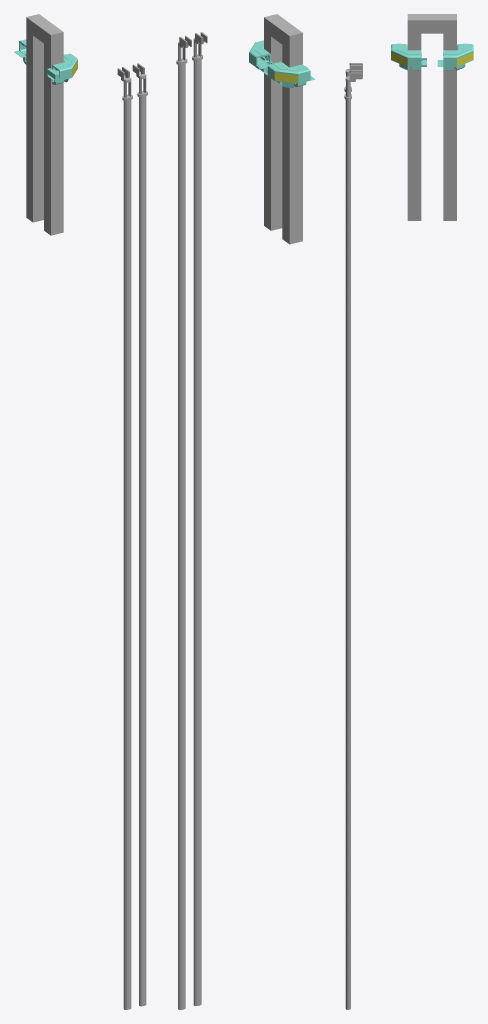
The model's file is Lab.fbx.
The picture shows the model from 3 angles, left to right: view 1: azimuth 30°, elevation 25°; view 2: azimuth 210°, elevation 25°; view 3: azimuth 270°, elevation 25°; orthographic projection. The views are drawn at different scales.
Visible parts, largest first — view 1: Cylinder, Cube__2_, Cube; view 2: Cylinder, Cube__2_, Cube; view 3: Cube__2_, Cylinder, Cube.
Boxes of the visible parts, x1,y1,x2,y2 form: Cylinder: (117, 63, 147, 1009); Cube__2_: (26, 14, 63, 235); Cube: (14, 39, 77, 84); Cylinder: (176, 32, 207, 1009); Cube__2_: (264, 14, 302, 244); Cube: (249, 40, 315, 87); Cube__2_: (407, 14, 456, 220); Cylinder: (344, 63, 362, 1009); Cube: (391, 44, 473, 70).
Size of the model in its own units: 29886 by 387011 by 47000.
